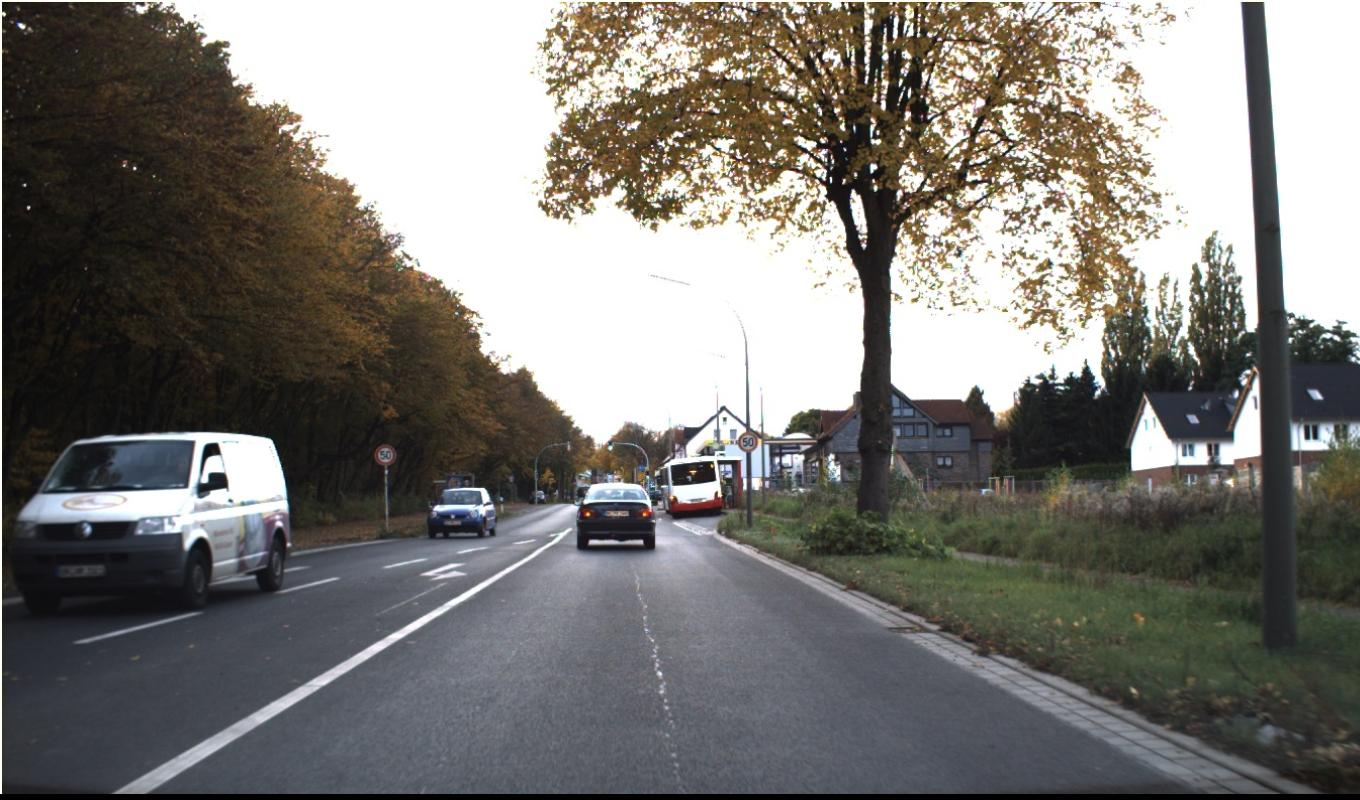speed limit 50: (373, 430, 758, 466)
